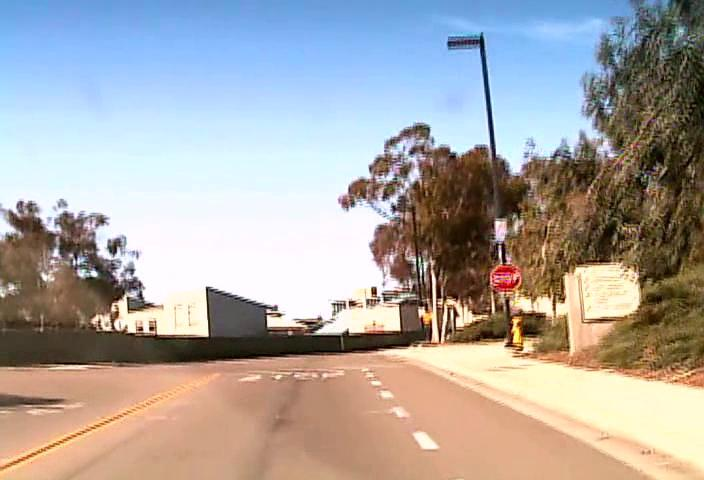stop: (490, 264, 521, 293)
